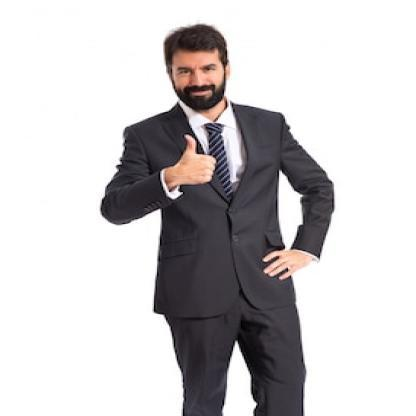thumb_up: (160, 132, 219, 192)
